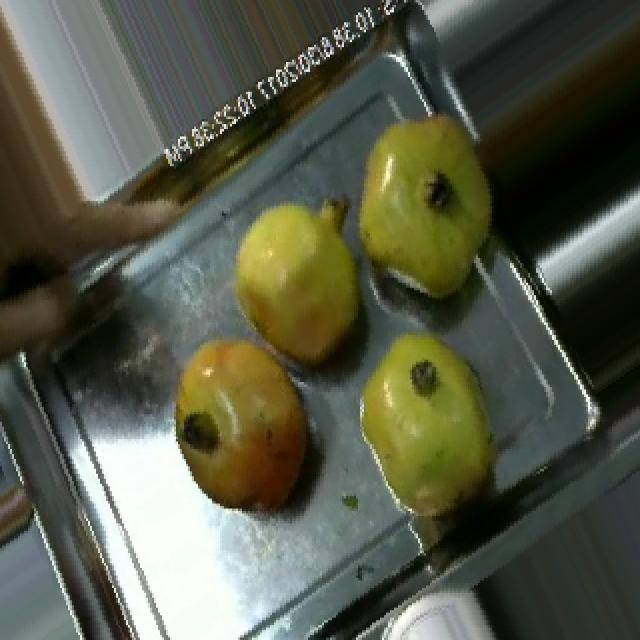fruit: (334, 313, 526, 548), (148, 310, 334, 533), (332, 92, 506, 315), (204, 174, 386, 387)
